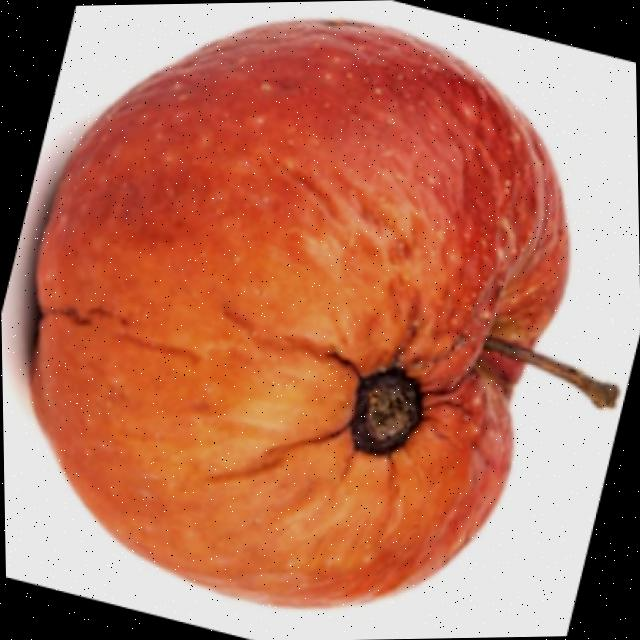overripe: (16, 8, 577, 620)
